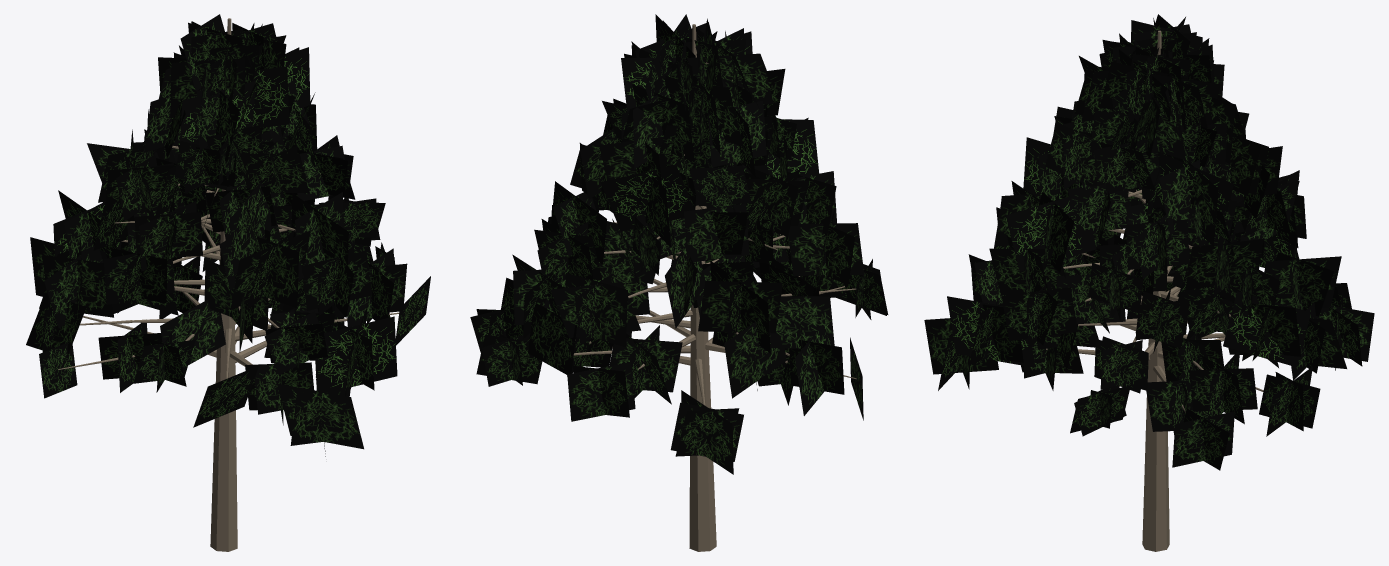
Rendered from tree_2.glb.
3 renders of one model, left to right at view 1: azimuth 30°, elevation 25°; view 2: azimuth 150°, elevation 25°; view 3: azimuth 270°, elevation 25°, orthographic.
Visible parts, largest first — view 1: Pine; view 2: Pine; view 3: Pine.
Boxes of the visible parts, box(x1,y1,x2,y2) form: Pine: box(26, 14, 430, 551); Pine: box(470, 14, 888, 551); Pine: box(924, 14, 1374, 551).
Size of the model in its own units: 8.52 by 11.04 by 8.67.
Materials: 2 (1 with a texture image).
